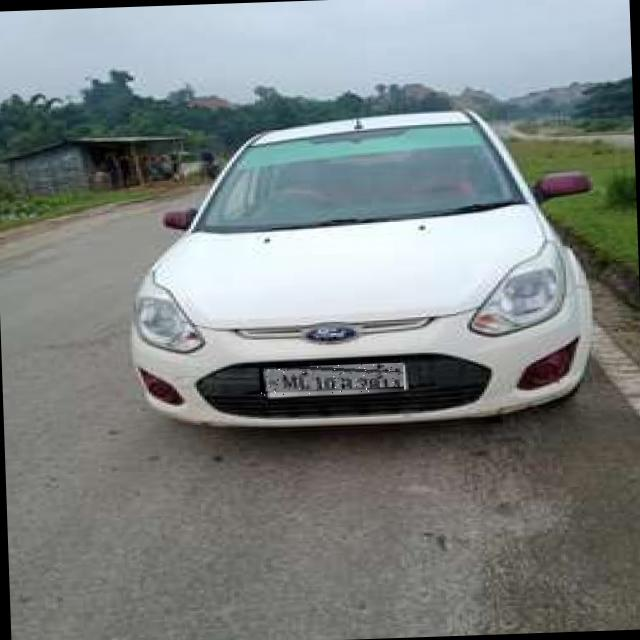Plate: (260, 364, 405, 397)
